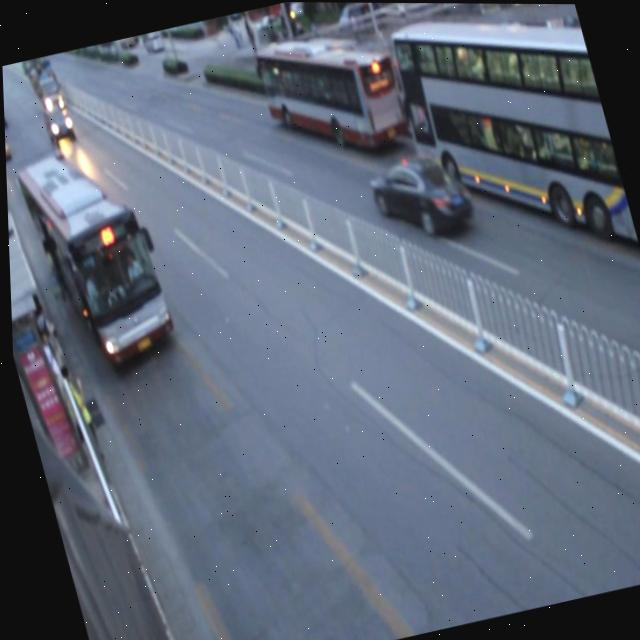car: (361, 146, 475, 245), (40, 101, 77, 148), (4, 126, 12, 163)
van: (385, 2, 639, 292), (11, 142, 178, 376), (251, 17, 410, 169)
